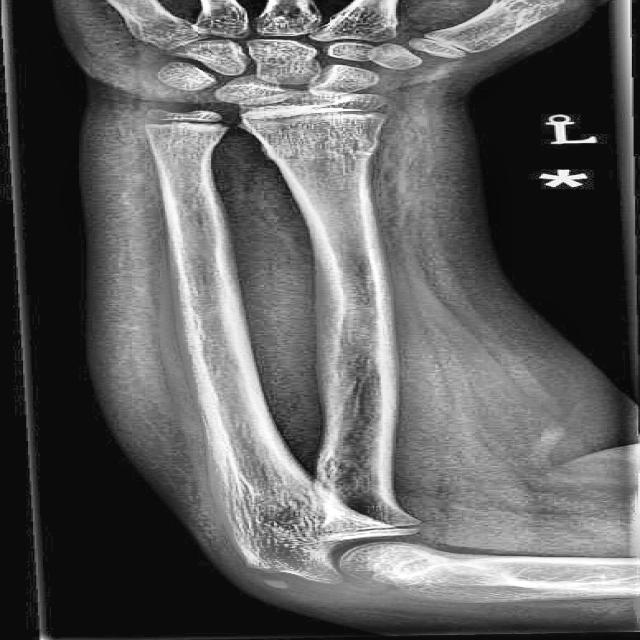line: (262, 147, 371, 164)
